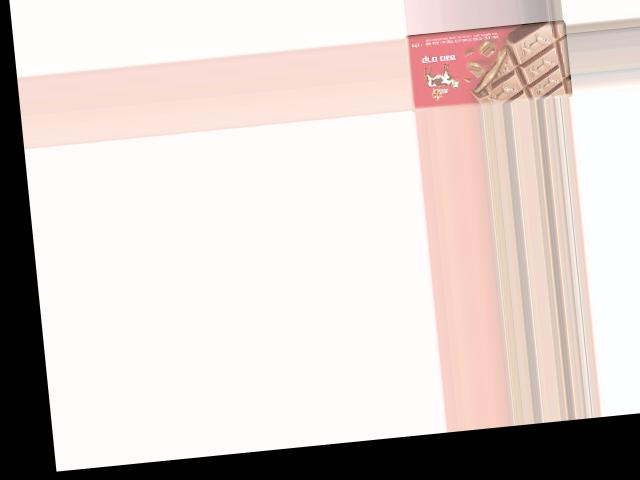chocolate: (404, 21, 570, 112)
